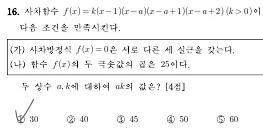choice: (13, 109, 26, 124)
not-choice: (116, 114, 126, 125), (66, 114, 76, 124), (166, 114, 176, 124), (216, 114, 226, 124)
